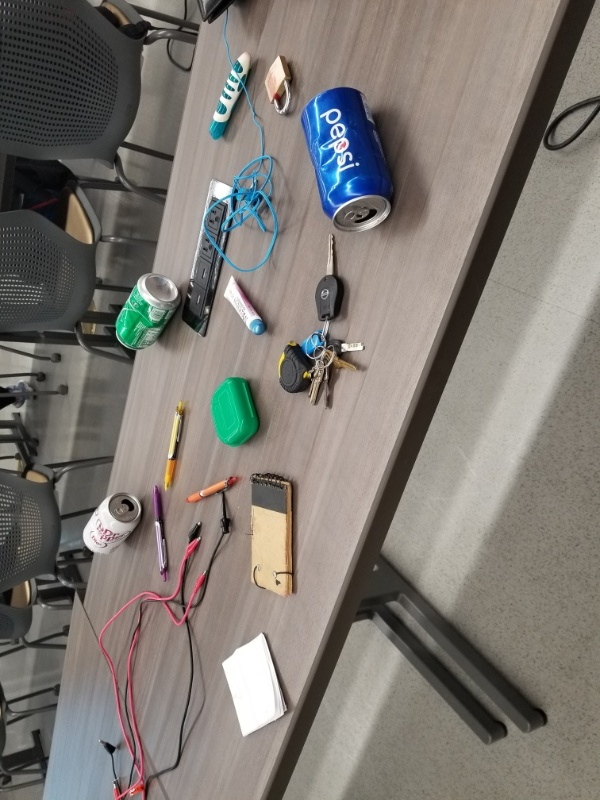can: (294, 85, 398, 236), (112, 271, 181, 354), (81, 486, 145, 558)
